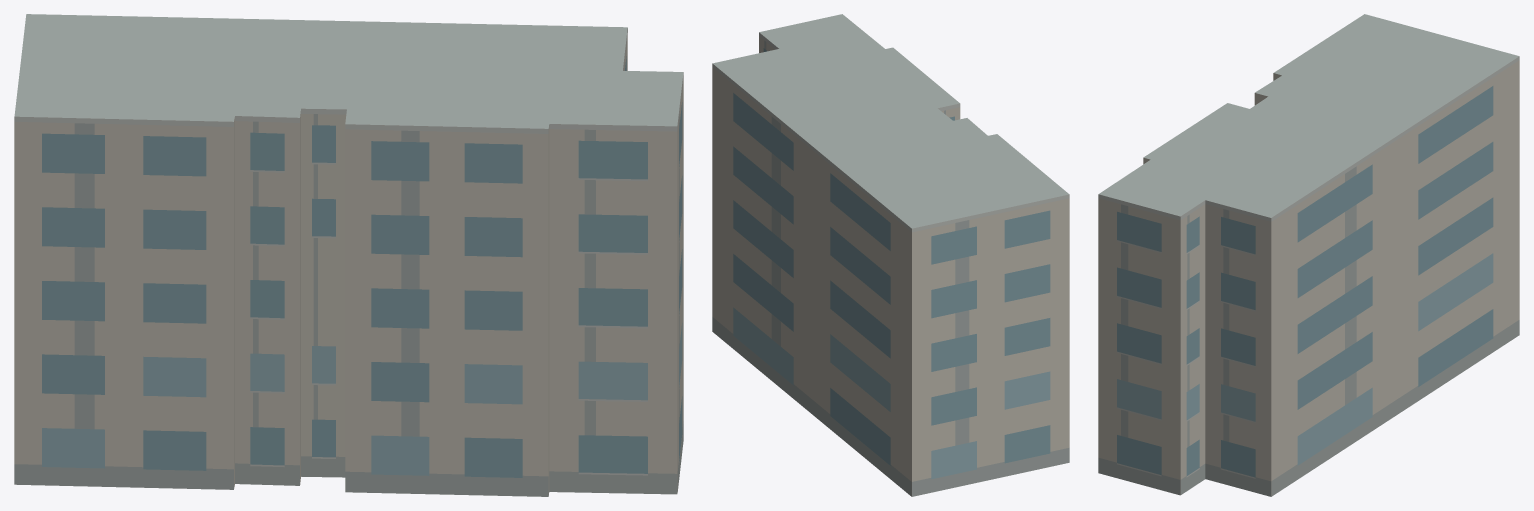
The model's file is survey-upis-33004043.glb.
3 renders of one model, left to right at view 1: azimuth 30°, elevation 25°; view 2: azimuth 150°, elevation 25°; view 3: azimuth 270°, elevation 25°, orthographic. The views are drawn at different scales.
Visible parts, largest first — view 1: survey-upis-33004043.tmp; view 2: survey-upis-33004043.tmp; view 3: survey-upis-33004043.tmp.
Part boxes in pixels (x1,y1,x2,y2): survey-upis-33004043.tmp: [14, 14, 683, 496]; survey-upis-33004043.tmp: [712, 14, 1069, 496]; survey-upis-33004043.tmp: [1098, 14, 1519, 496].
Size of the model in its own units: 27.3 by 17.4 by 23.83.
